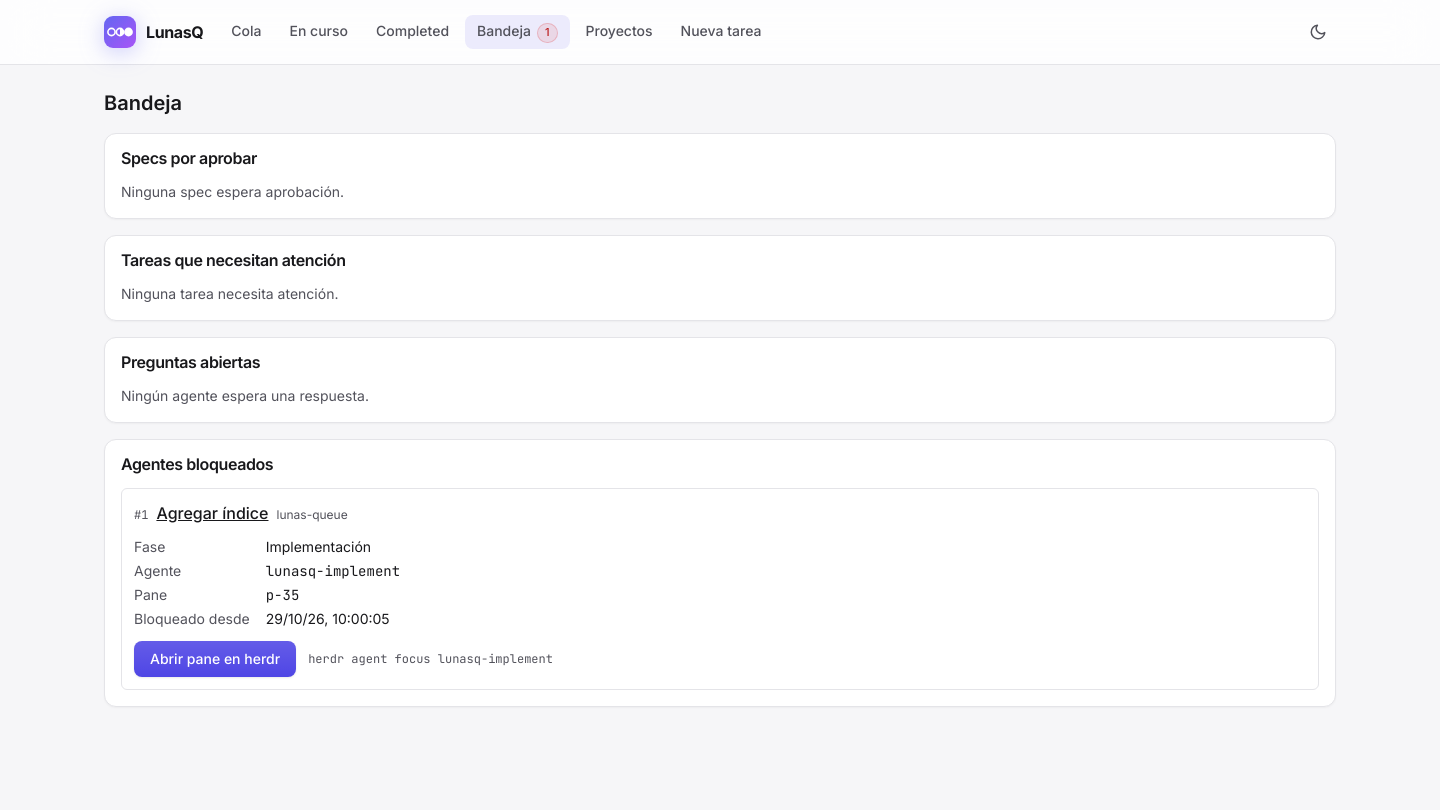
bandeja › si herdr ya no tiene el agente lo dice
This screenshot has width=1440, height=810.
Step 1. Click the button "Abrir pane en herdr" → (215, 659), box [134,641,296,677]
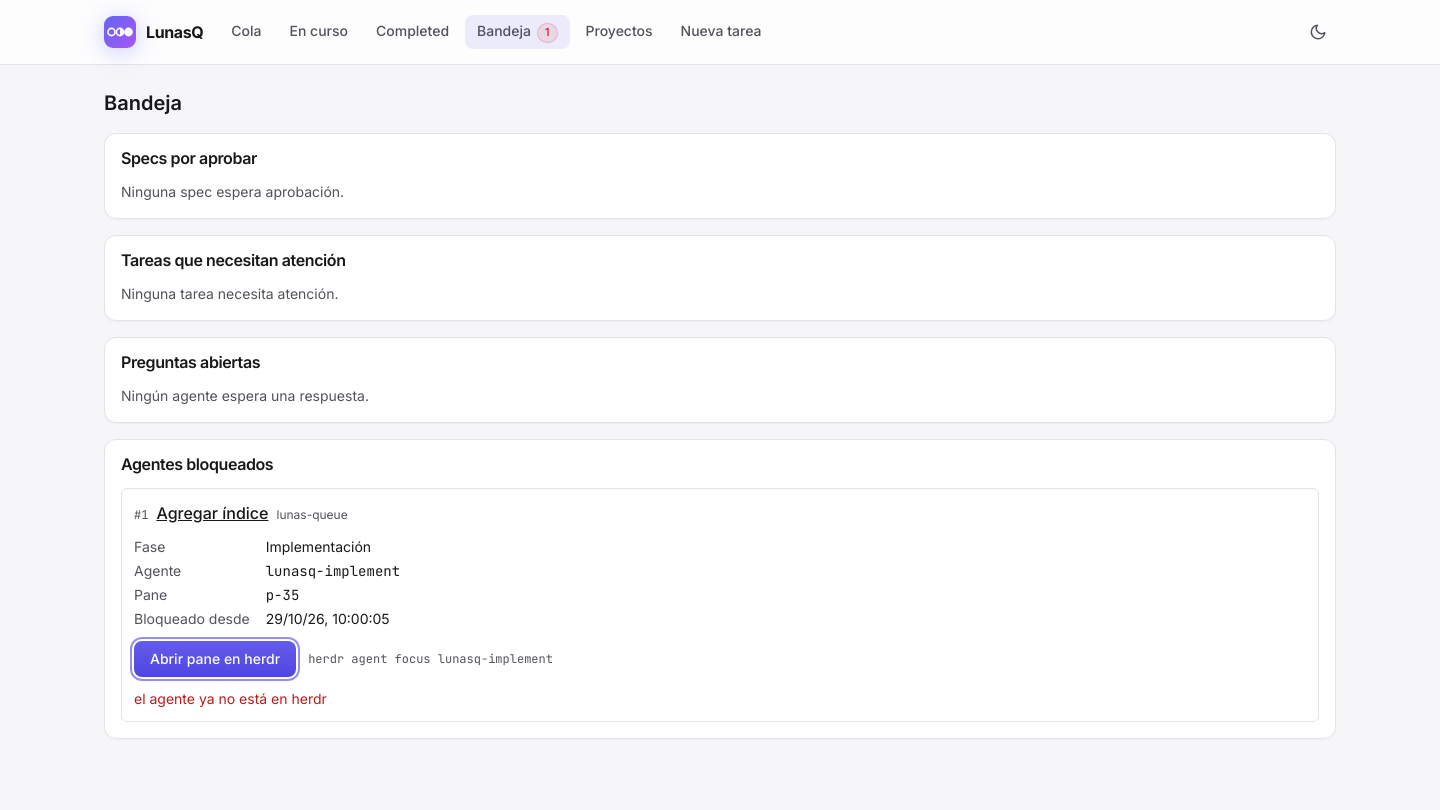
Now the message shows "ya no está en herdr", box [134,690,327,707]
